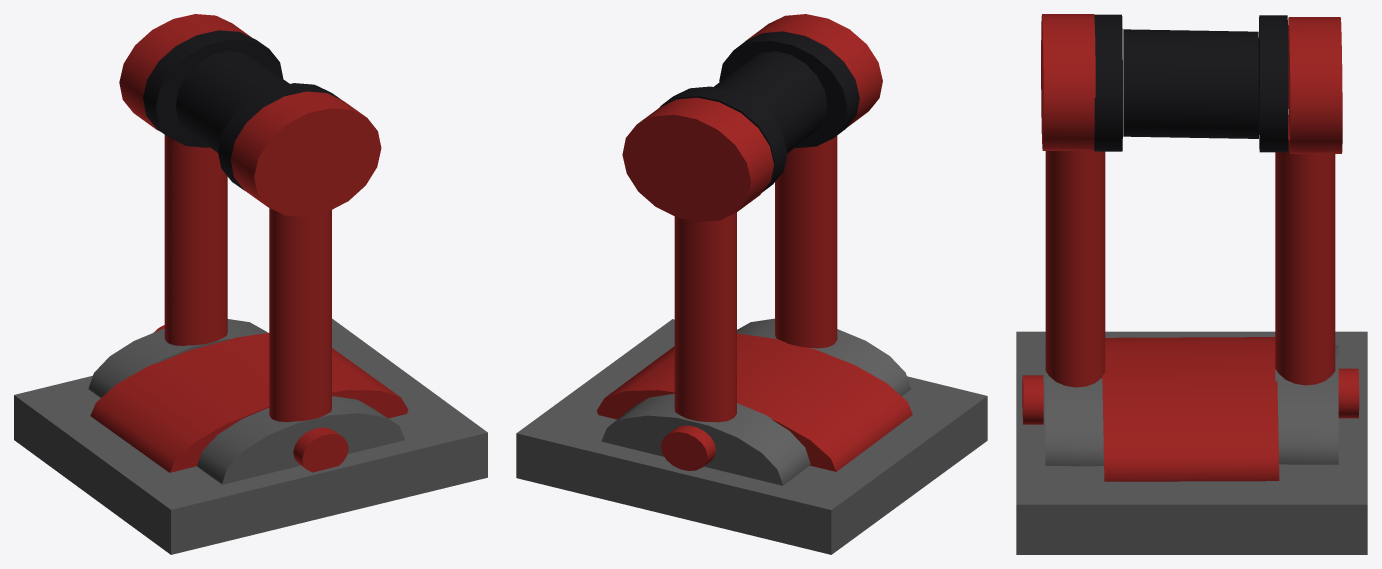
Rendered from レバーオン.fbx.
3 views of the same model, side by side, from view 1: azimuth 30°, elevation 25°; view 2: azimuth 150°, elevation 25°; view 3: azimuth 270°, elevation 25° (orthographic). The views are drawn at different scales.
Visible parts, largest first — view 1: Box001, Cylinder011, Cylinder008, Cylinder002, Cylinder004, Cylinder009, Cylinder003, Cylinder005, Cylinder007, Cylinder015, Cylinder006, Cylinder014; view 2: Box001, Cylinder011, Cylinder007, Cylinder004, Cylinder002, Cylinder015, Cylinder003, Cylinder006, Cylinder008, Cylinder009, Cylinder005, Cylinder013; view 3: Box001, Cylinder011, Cylinder003, Cylinder002, Cylinder004, Cylinder007, Cylinder008, Cylinder015, Cylinder009, Cylinder005, Cylinder006, Cylinder014 (+1 smaller).
Part boxes in pixels (x1=…): Box001: x1=14, y1=318, x2=487, y2=554; Cylinder011: x1=90, y1=333, x2=408, y2=472; Cylinder008: x1=230, y1=91, x2=381, y2=216; Cylinder002: x1=269, y1=208, x2=331, y2=422; Cylinder004: x1=164, y1=135, x2=227, y2=345; Cylinder009: x1=197, y1=396, x2=404, y2=484; Cylinder003: x1=175, y1=51, x2=289, y2=152; Cylinder005: x1=143, y1=30, x2=283, y2=147; Cylinder007: x1=119, y1=14, x2=251, y2=130; Cylinder015: x1=88, y1=319, x2=267, y2=397; Cylinder006: x1=218, y1=83, x2=341, y2=190; Cylinder014: x1=293, y1=427, x2=348, y2=472; Box001: x1=516, y1=319, x2=987, y2=554; Cylinder011: x1=596, y1=333, x2=912, y2=471; Cylinder007: x1=622, y1=97, x2=773, y2=221; Cylinder004: x1=674, y1=212, x2=736, y2=422; Cylinder002: x1=775, y1=136, x2=837, y2=348; Cylinder015: x1=601, y1=393, x2=810, y2=485; Cylinder003: x1=714, y1=51, x2=827, y2=153; Cylinder006: x1=719, y1=31, x2=859, y2=148; Cylinder008: x1=745, y1=14, x2=882, y2=127; Cylinder009: x1=737, y1=318, x2=910, y2=396; Cylinder005: x1=659, y1=86, x2=787, y2=192; Cylinder013: x1=660, y1=425, x2=715, y2=470; Box001: x1=1016, y1=331, x2=1367, y2=554; Cylinder011: x1=1102, y1=337, x2=1279, y2=481; Cylinder003: x1=1123, y1=29, x2=1258, y2=138; Cylinder002: x1=1045, y1=151, x2=1105, y2=387; Cylinder004: x1=1275, y1=115, x2=1335, y2=385; Cylinder007: x1=1288, y1=17, x2=1342, y2=153; Cylinder008: x1=1041, y1=14, x2=1095, y2=150; Cylinder015: x1=1275, y1=345, x2=1338, y2=464; Cylinder009: x1=1045, y1=346, x2=1103, y2=466; Cylinder005: x1=1258, y1=15, x2=1288, y2=152; Cylinder006: x1=1094, y1=14, x2=1122, y2=151; Cylinder014: x1=1022, y1=375, x2=1043, y2=424.
Size of the model in its own units: 35.7 by 42.72 by 30.63.
